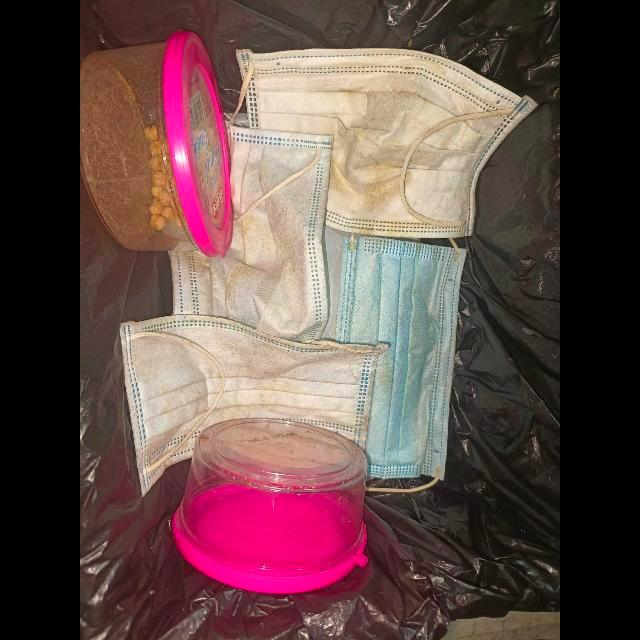plastic_container: (169, 418, 369, 598), (80, 31, 235, 262)
